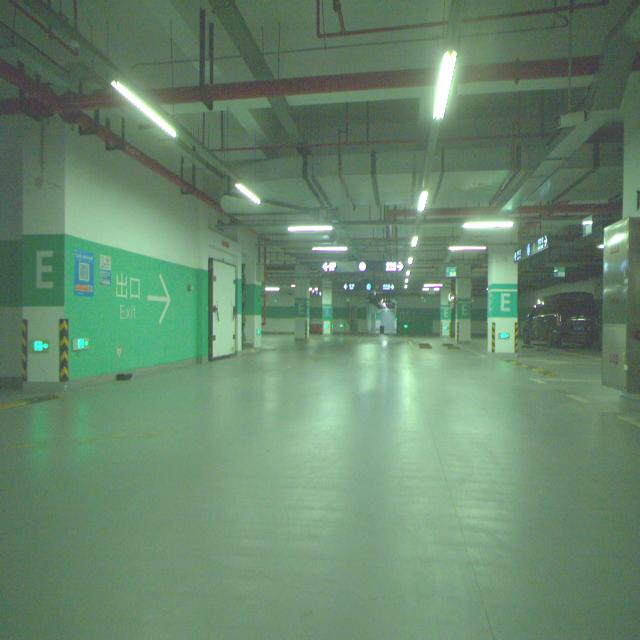pillar: (488, 244, 518, 353), (294, 266, 310, 341)
